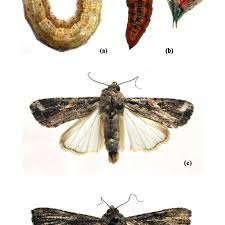larva: (17, 1, 104, 49)
moth: (24, 66, 197, 158), (20, 191, 195, 225)
pupa: (122, 2, 158, 50), (165, 1, 206, 29)
